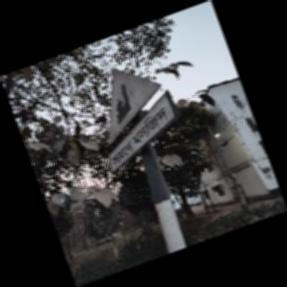Mosque in front: (105, 70, 180, 174)
